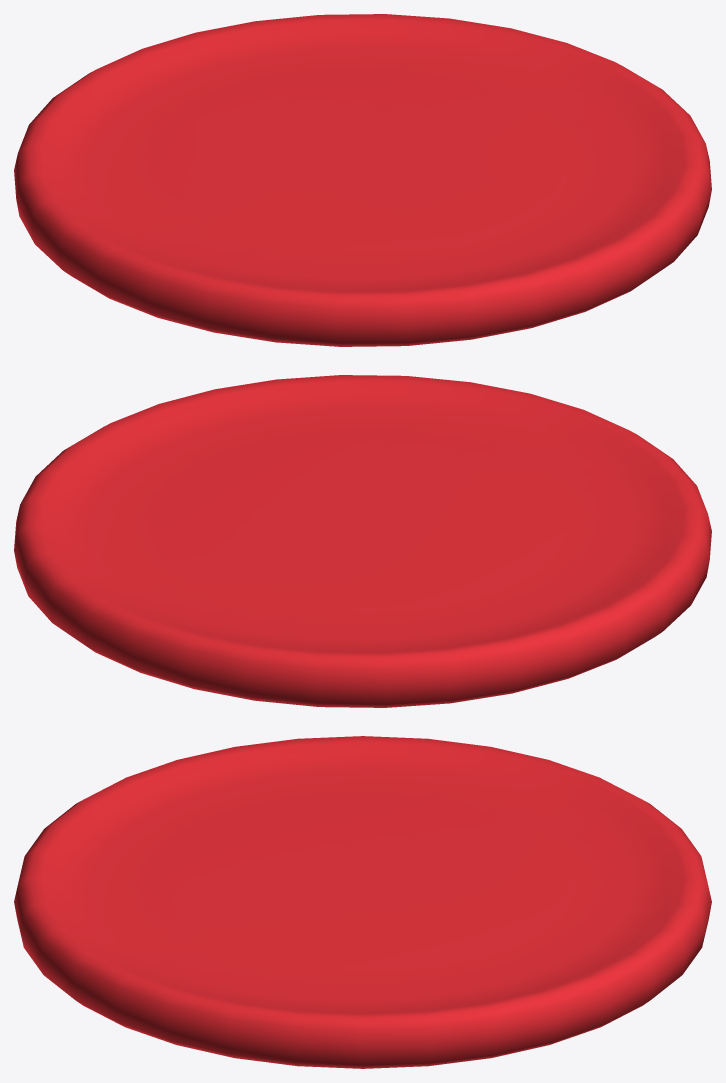
The model's file is PaddleFinal.fbx.
The picture shows the model from 3 angles, top to bottom: view 1: azimuth 30°, elevation 25°; view 2: azimuth 150°, elevation 25°; view 3: azimuth 270°, elevation 25°; orthographic projection.
Visible parts, largest first — view 1: ball; view 2: ball; view 3: ball.
Part boxes in pixels (x1,y1,x2,y2): ball: [14, 14, 711, 346]; ball: [14, 375, 711, 707]; ball: [14, 736, 711, 1068].
Bounding box in the file's own units: 230 × 18.33 × 230.
